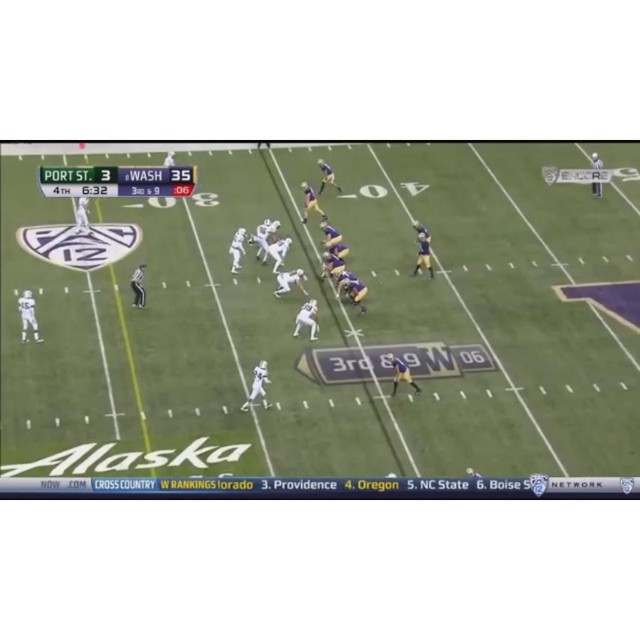american-football-player: (384, 353, 422, 397), (241, 359, 271, 411), (250, 218, 281, 265), (18, 289, 43, 345), (338, 274, 370, 317), (410, 231, 435, 281), (272, 268, 309, 300), (300, 181, 327, 224), (293, 298, 320, 341), (266, 236, 293, 273), (317, 158, 342, 196), (229, 227, 248, 274), (319, 252, 346, 282), (74, 196, 93, 235), (320, 218, 342, 251)
referee: (130, 262, 149, 309)
